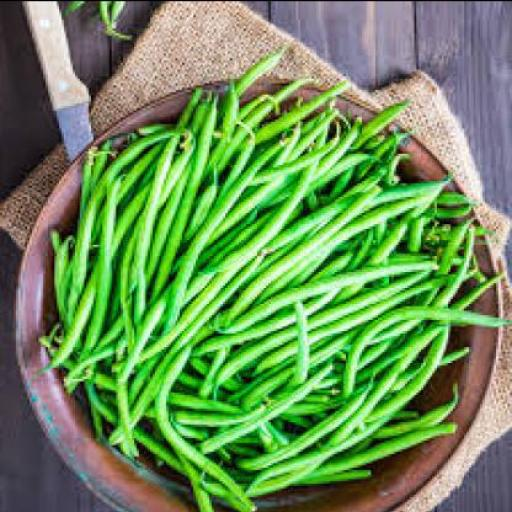biodegradable: (48, 48, 510, 510), (73, 62, 337, 305), (148, 207, 369, 444), (264, 205, 487, 417), (205, 100, 412, 282), (252, 321, 448, 489), (118, 282, 246, 434), (134, 376, 278, 510), (350, 267, 510, 369), (61, 300, 157, 456), (43, 205, 139, 360), (232, 376, 378, 466), (296, 418, 460, 478), (374, 382, 462, 438), (294, 466, 382, 485), (105, 1, 133, 32), (111, 1, 133, 32), (63, 1, 85, 14)
metal: (54, 106, 96, 154)
